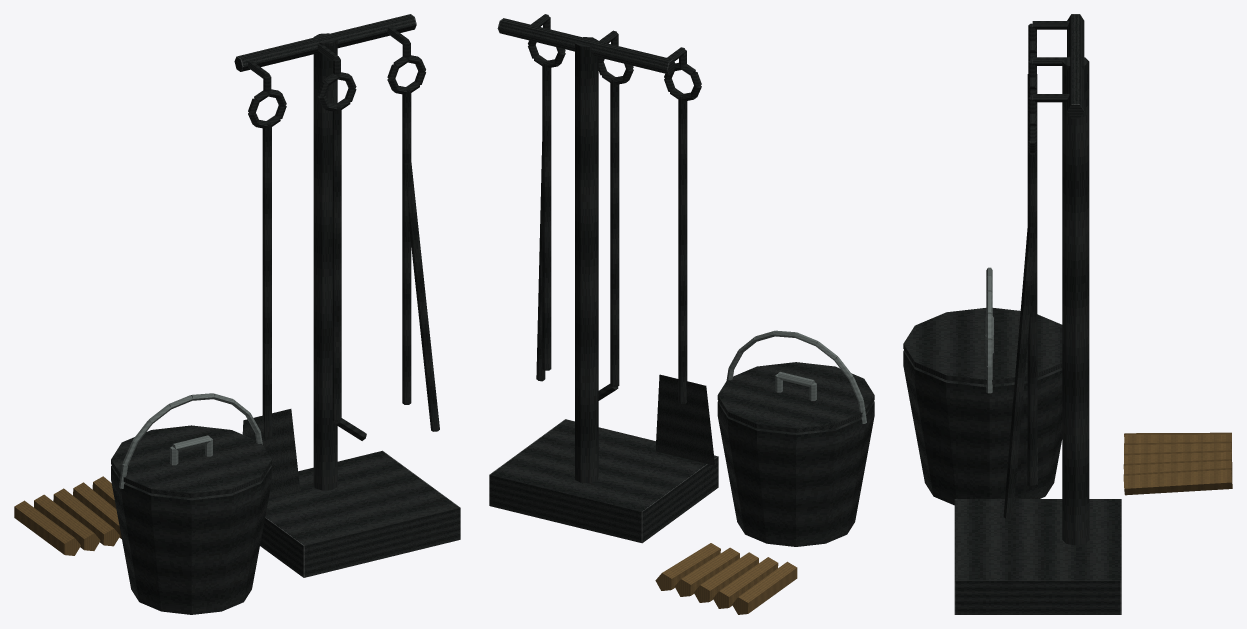
The model's file is level_work_hearth_tools.glb.
3 renders of one model, left to right at view 1: azimuth 30°, elevation 25°; view 2: azimuth 150°, elevation 25°; view 3: azimuth 270°, elevation 25°, orthographic. The views are drawn at different scales.
Parts seen in each view (by area): view 1: level_work_hearth_tools; view 2: level_work_hearth_tools; view 3: level_work_hearth_tools.
Boxes of the visible parts, <box> form: level_work_hearth_tools: <box>14,14,460,614</box>; level_work_hearth_tools: <box>489,14,874,614</box>; level_work_hearth_tools: <box>903,14,1232,614</box>.
Bounding box in the file's own units: 0.7651 × 1.05 × 0.6113.
Materials: 3 (3 with a texture image).
